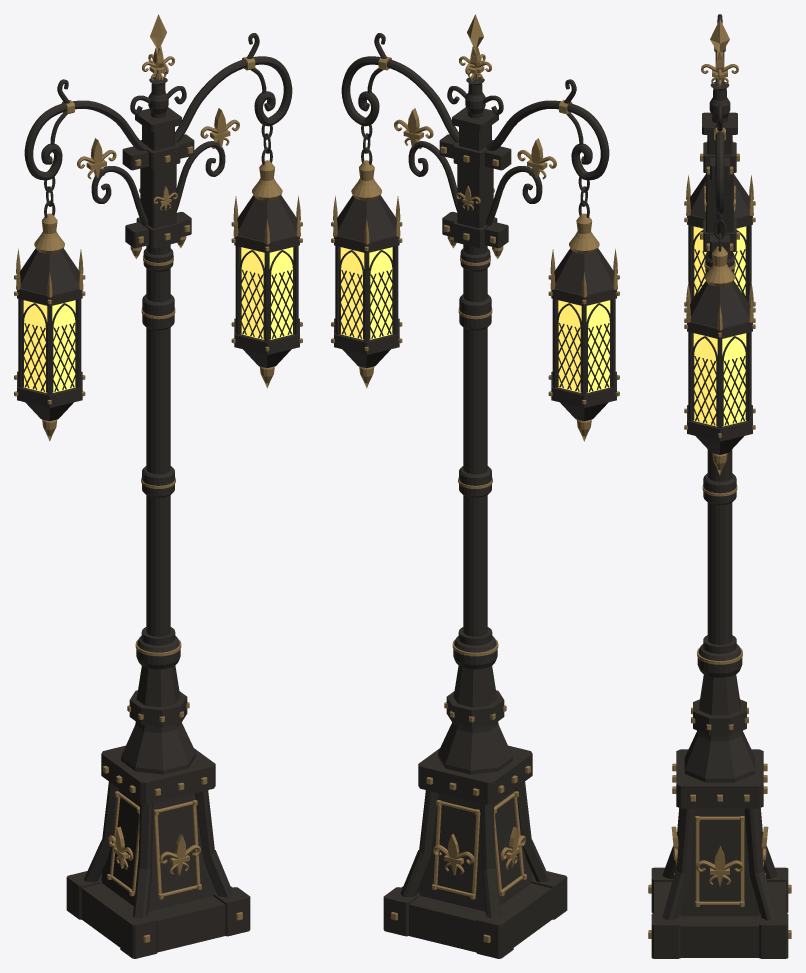
The model's file is SilverbrookStreetLamp2.glb.
3 views of the same model, side by side, from view 1: azimuth 30°, elevation 25°; view 2: azimuth 150°, elevation 25°; view 3: azimuth 270°, elevation 25° (orthographic).
Parts seen in each view (by area): view 1: SM_SBStreetLamp2_Iron, SM_SBStreetLamp2_Lanterns; view 2: SM_SBStreetLamp2_Iron, SM_SBStreetLamp2_Lanterns; view 3: SM_SBStreetLamp2_Iron, SM_SBStreetLamp2_Lanterns.
Part boxes in pixels (bbox=[...]): SM_SBStreetLamp2_Iron: bbox=[24, 14, 292, 958]; SM_SBStreetLamp2_Lanterns: bbox=[14, 125, 302, 441]; SM_SBStreetLamp2_Iron: bbox=[341, 14, 609, 958]; SM_SBStreetLamp2_Lanterns: bbox=[331, 125, 619, 441]; SM_SBStreetLamp2_Iron: bbox=[648, 14, 791, 958]; SM_SBStreetLamp2_Lanterns: bbox=[684, 174, 755, 474].
Size of the model in its own units: 1.49 by 4.49 by 0.64.
